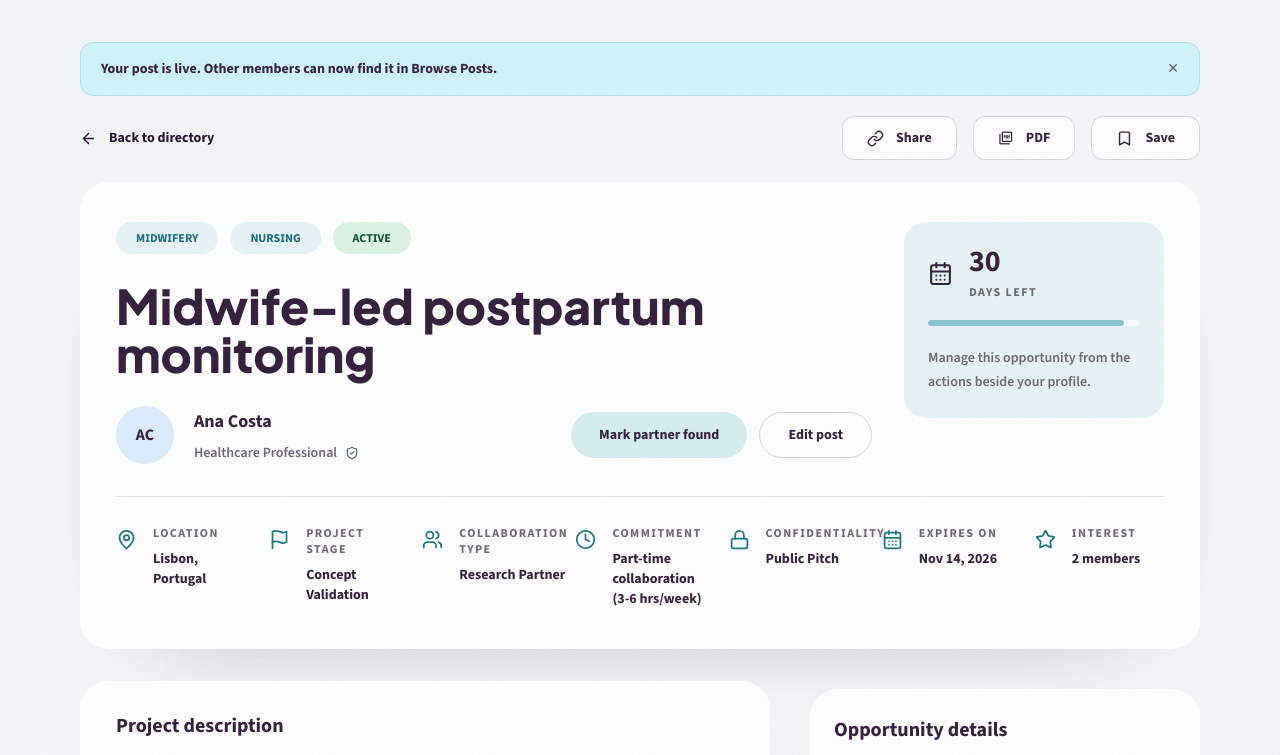
Test: PostDetailPage › confirms a post that was just published from the create page
Expected: the message shows "Your post is live.", [101,59,497,78]
Click the button named "Close": (1173,69) [1167,59,1179,79]
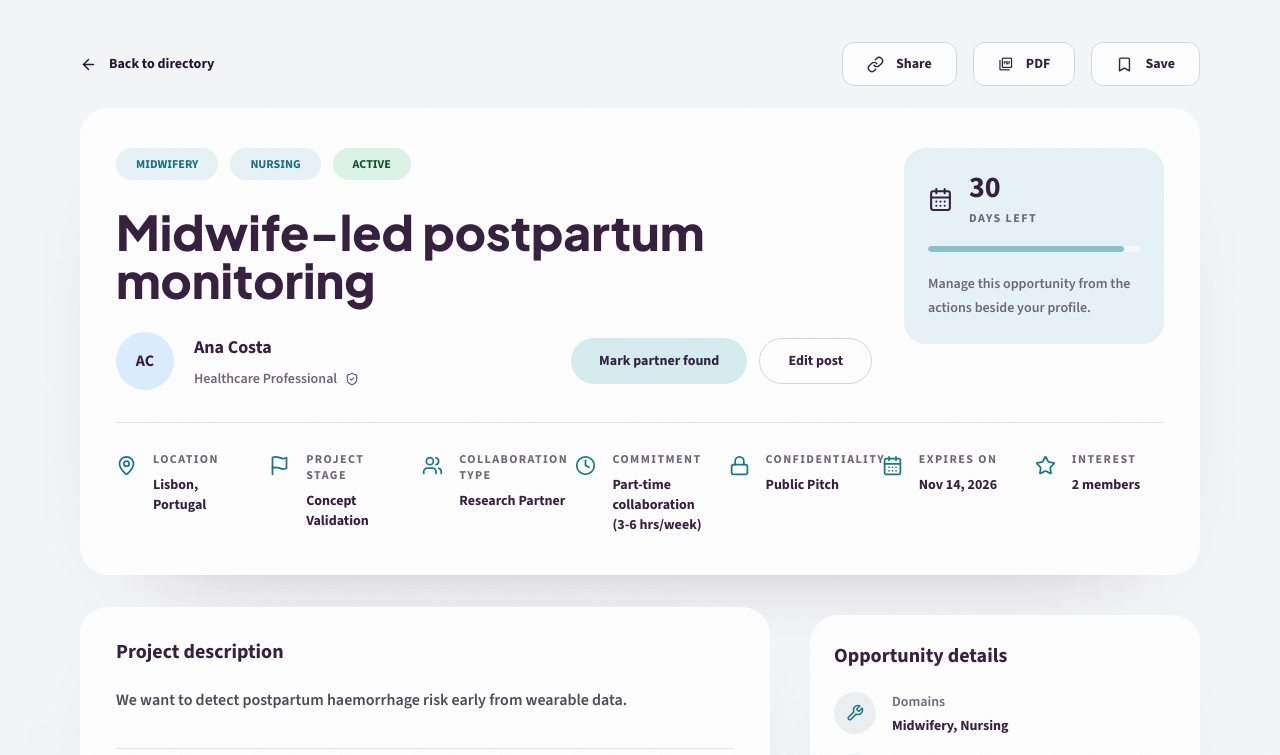
Expected: the text "Your post is live" is gone
